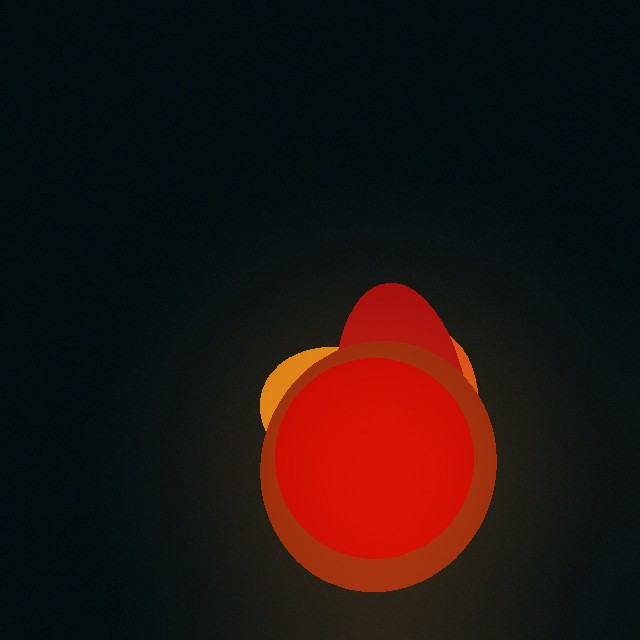fire: (321, 358, 441, 574)
